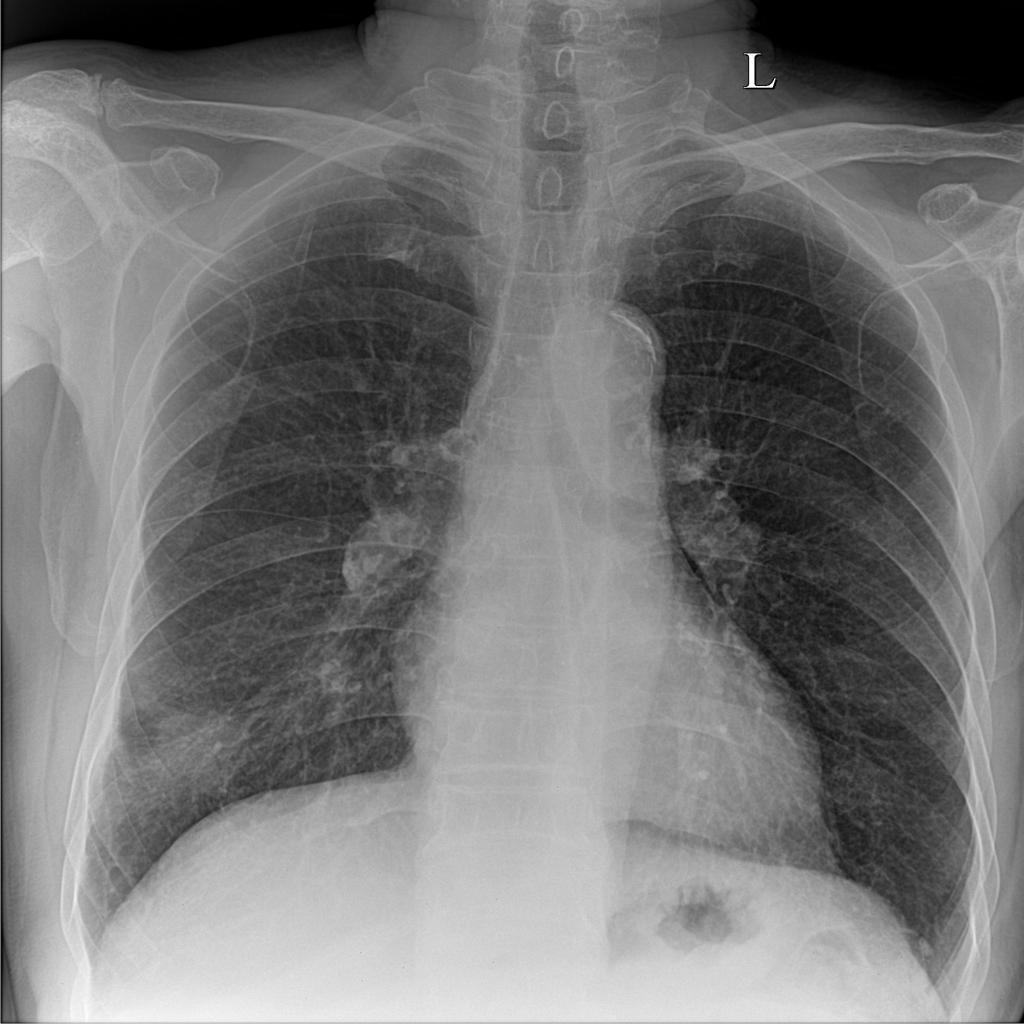Nodule: (137, 691, 264, 805), (903, 923, 948, 972)
